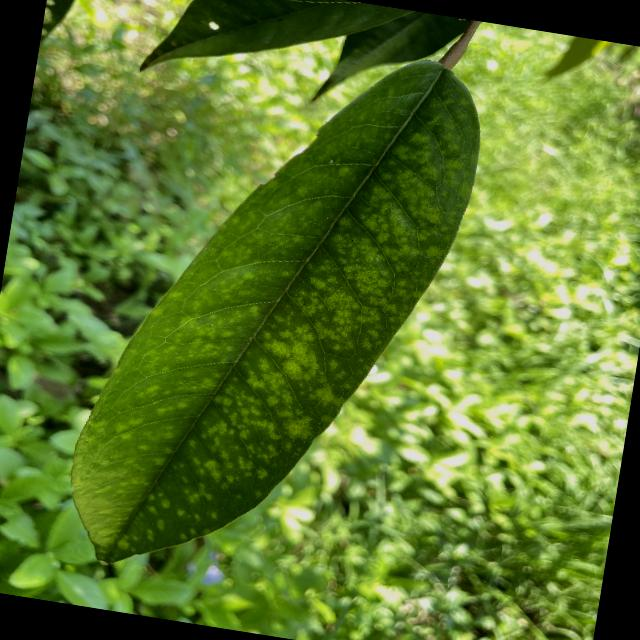Leaf Spot: (56, 13, 498, 606)
